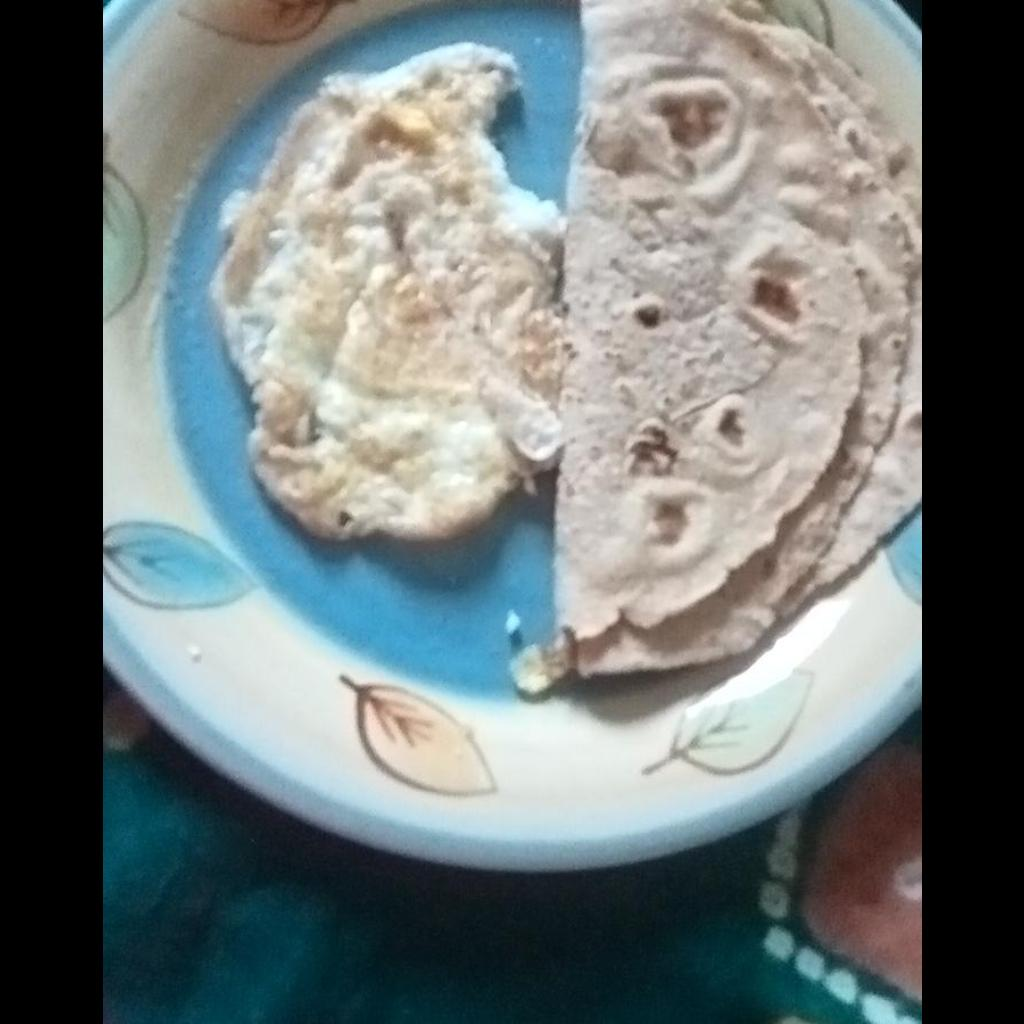egg-poached: (209, 49, 558, 540)
ruti: (505, 0, 920, 695)
